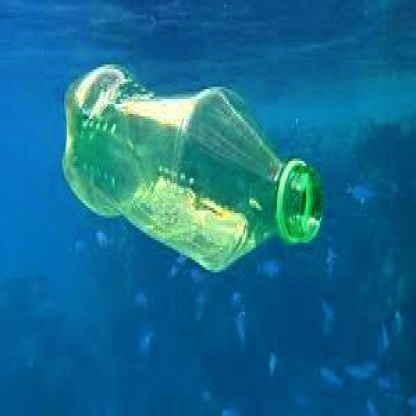pbottle: (52, 54, 324, 272)
